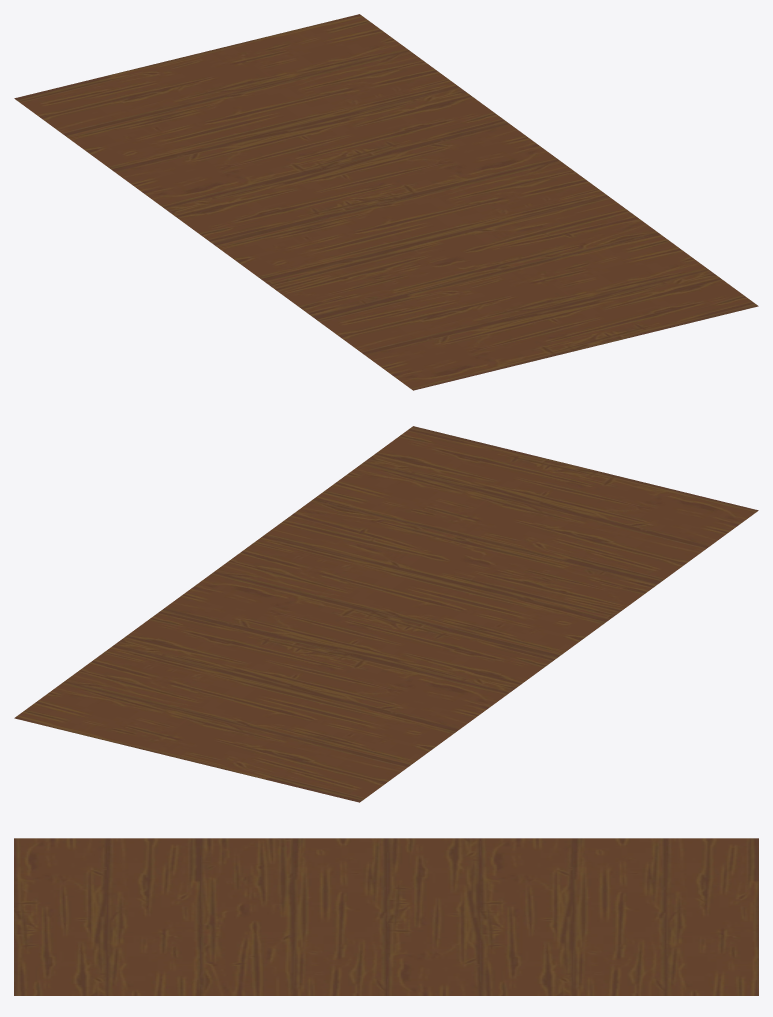
The model's file is floor-wooddark-half2.glb.
3 renders of one model, top to bottom at view 1: azimuth 30°, elevation 25°; view 2: azimuth 150°, elevation 25°; view 3: azimuth 270°, elevation 25°, orthographic. The views are drawn at different scales.
Parts seen in each view (by area): view 1: Floor_WoodDark_Half2; view 2: Floor_WoodDark_Half2; view 3: Floor_WoodDark_Half2.
Boxes of the visible parts, x1=… form: Floor_WoodDark_Half2: x1=14, y1=14, x2=758, y2=390; Floor_WoodDark_Half2: x1=14, y1=426, x2=758, y2=802; Floor_WoodDark_Half2: x1=14, y1=838, x2=758, y2=995.
Size of the model in its own units: 1 by 0.02 by 2.
1 material, 1 textured.
